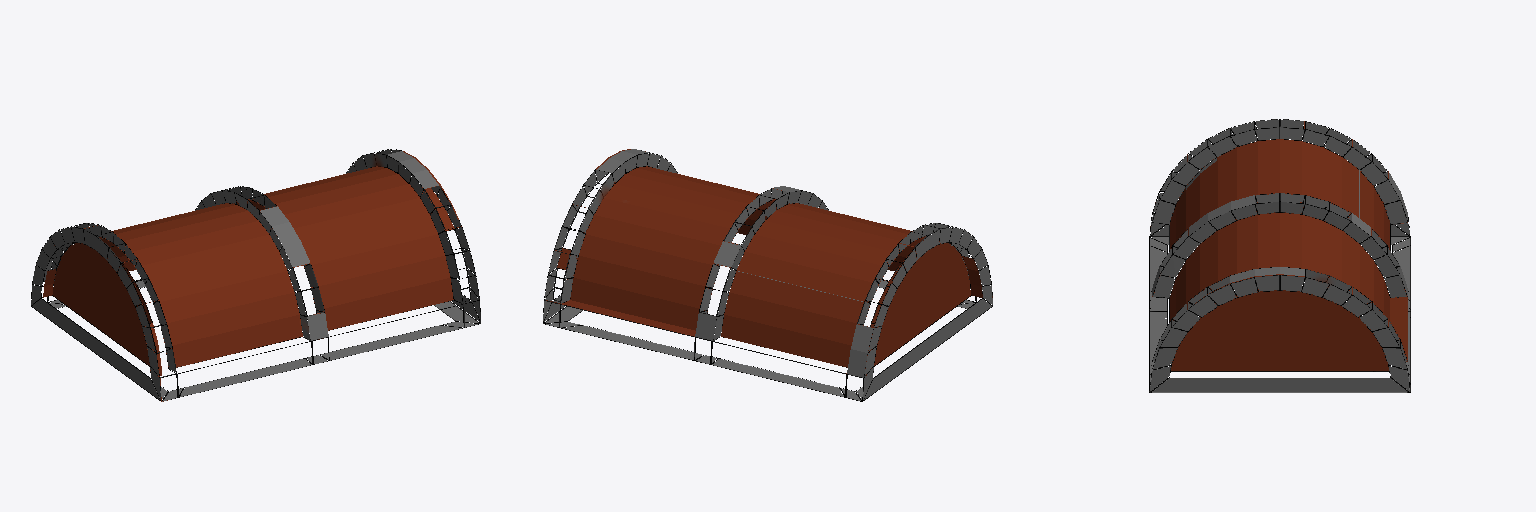
3 views of the same model, side by side, from view 1: azimuth 30°, elevation 25°; view 2: azimuth 150°, elevation 25°; view 3: azimuth 270°, elevation 25° (orthographic).
Parts seen in each view (by area): view 1: Cylinder.001; view 2: Cylinder.001; view 3: Cylinder.001.
Boxes of the visible parts, <box> form: Cylinder.001: <box>31,149,480,401</box>; Cylinder.001: <box>543,149,992,401</box>; Cylinder.001: <box>1149,119,1410,392</box>.
Bounding box in the file's own units: 2.83 × 1 × 2.
Materials: 1 (1 with a texture image).